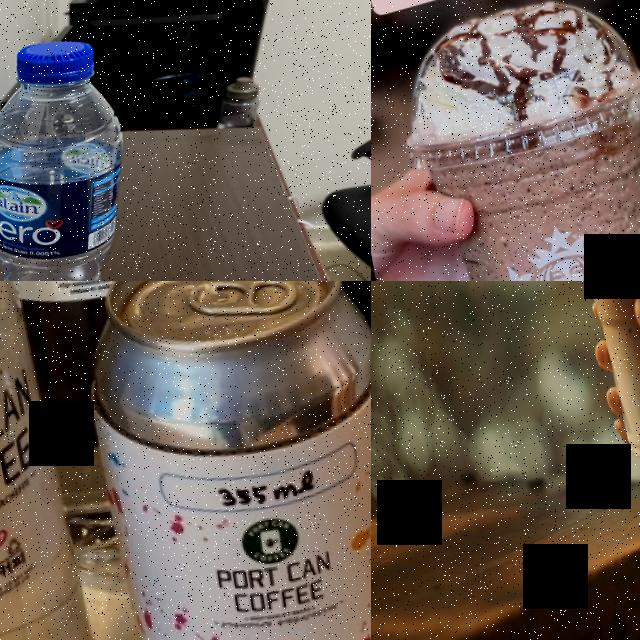bottle: (0, 25, 159, 281)
can: (60, 281, 371, 640), (0, 281, 118, 640)
cup: (385, 0, 640, 281), (575, 281, 640, 464)
